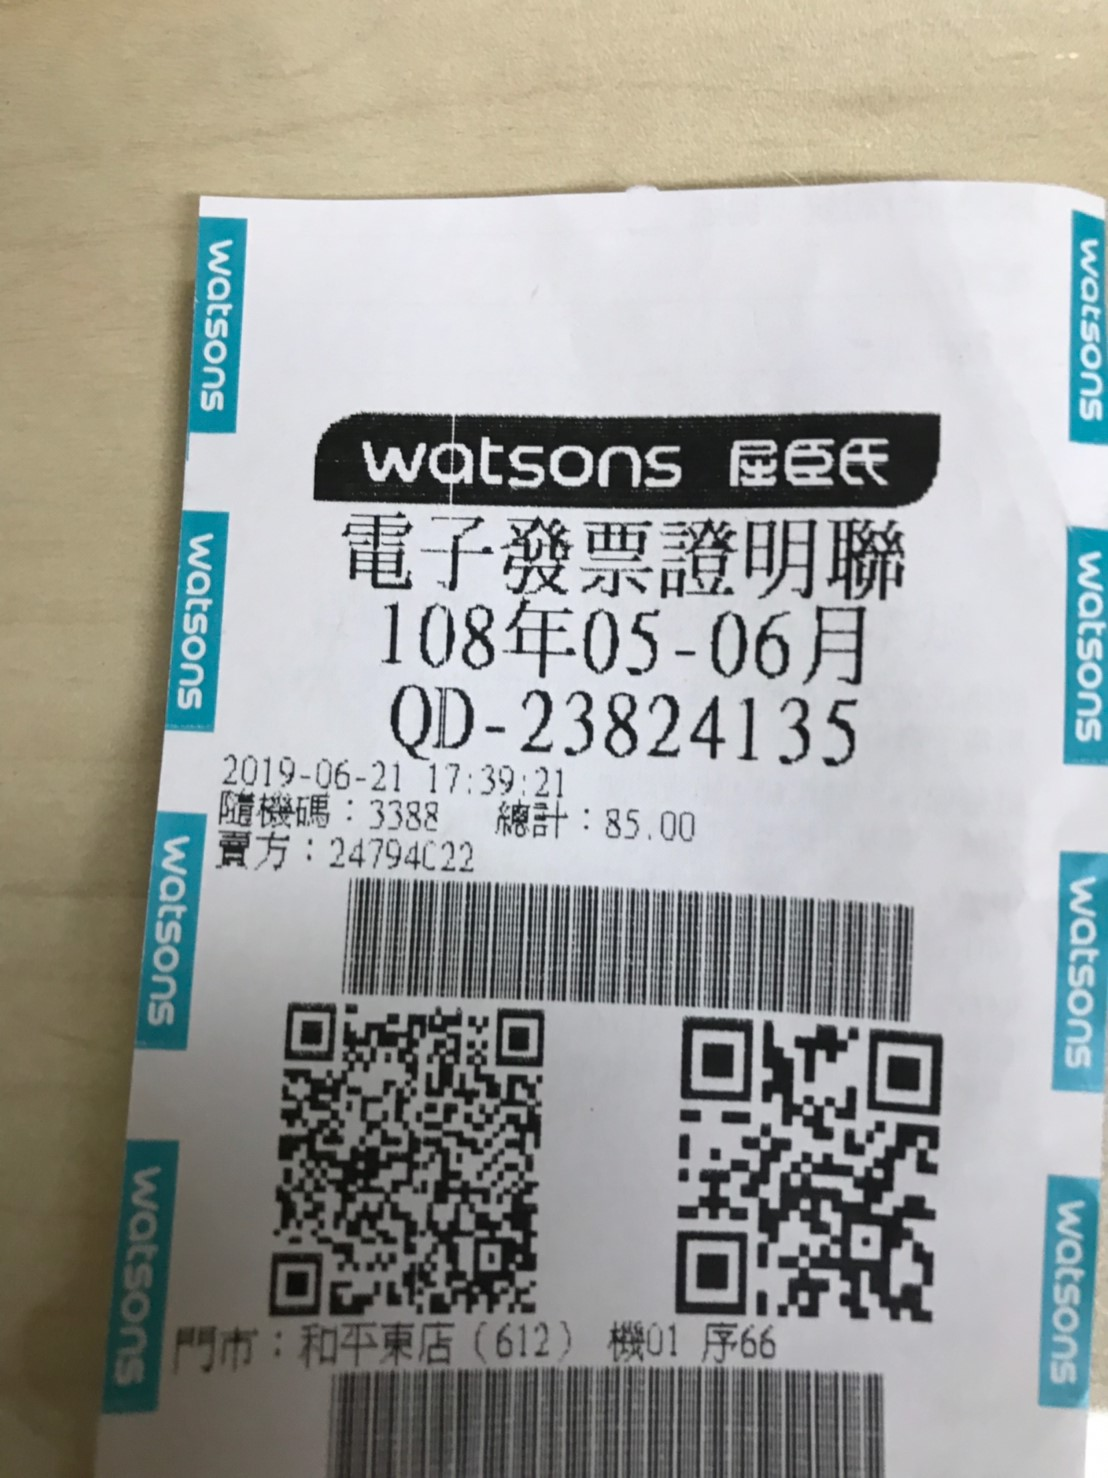Date_New: (382, 597, 869, 690)
Number_New: (521, 684, 864, 777)
